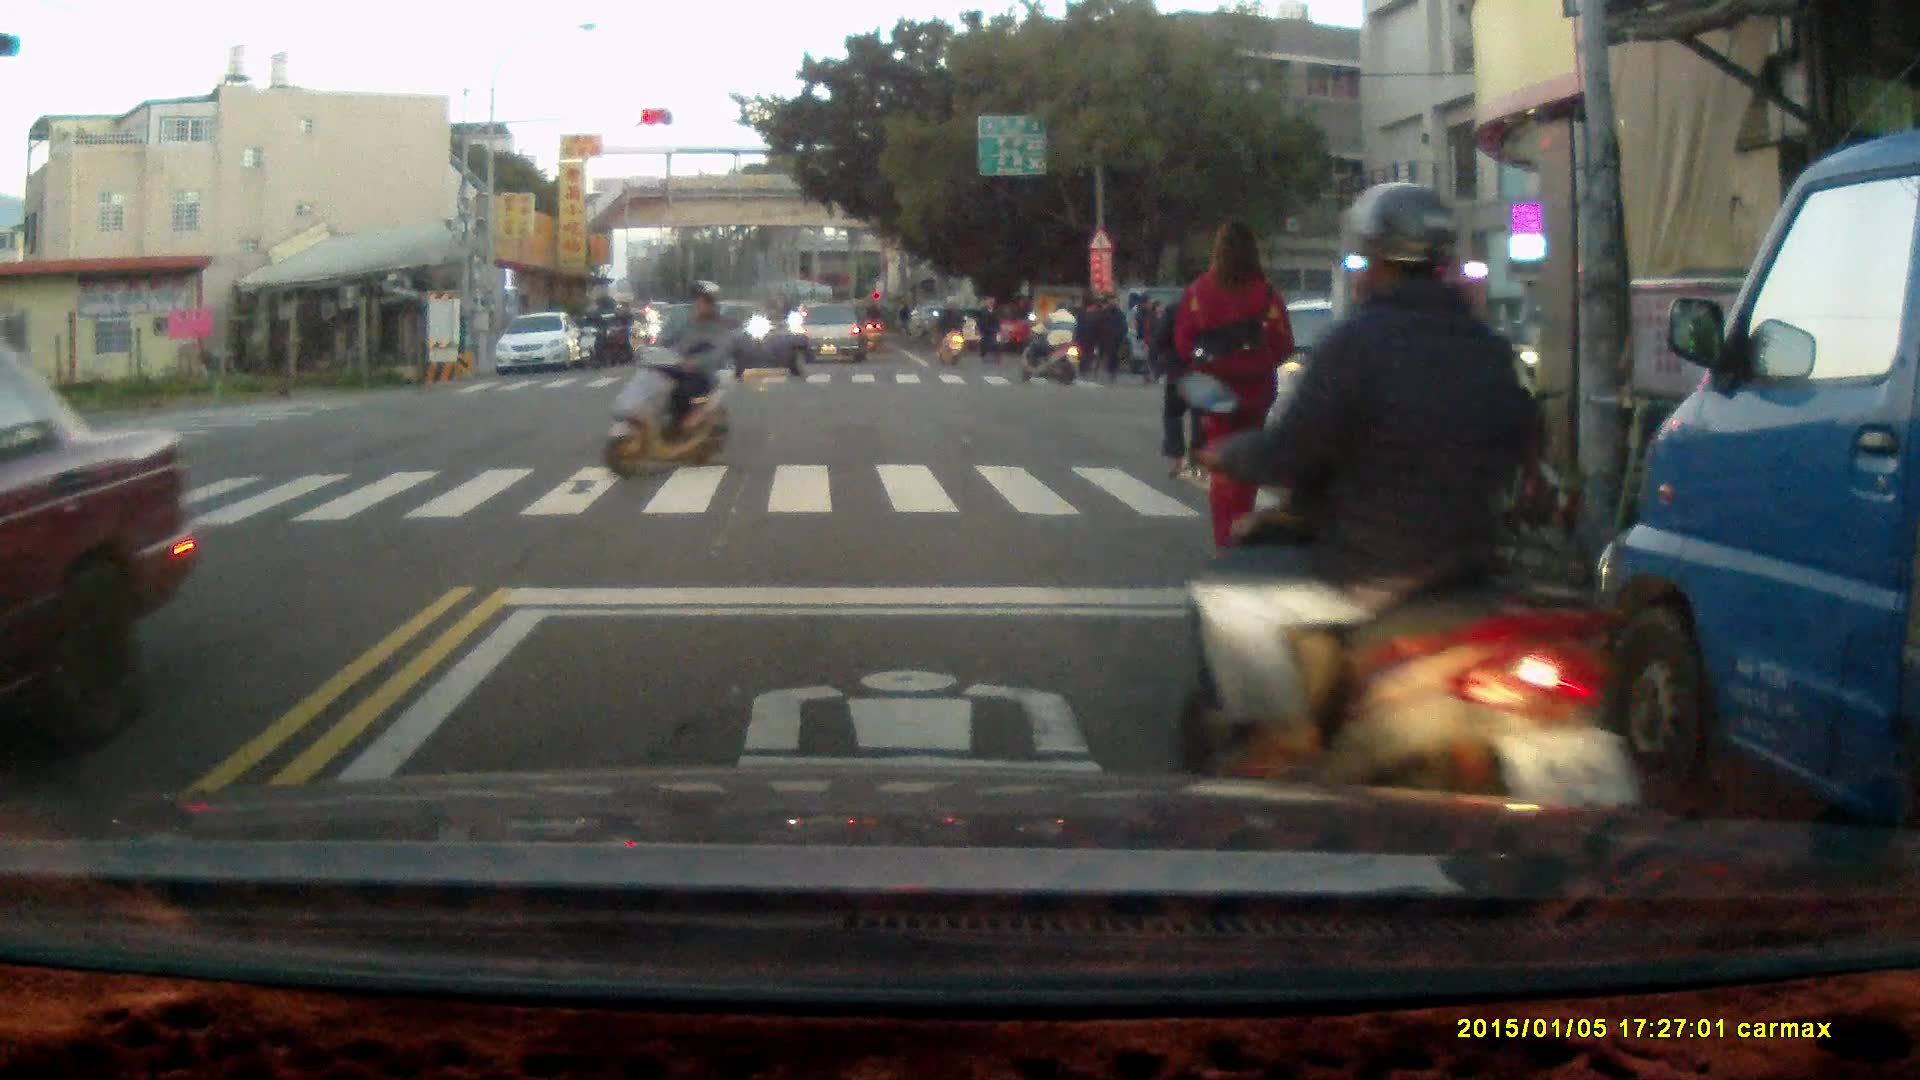pedestrian: (1175, 216, 1295, 573), (1150, 262, 1234, 482), (1094, 290, 1127, 385), (977, 292, 1001, 367)
rider: (1180, 176, 1625, 874), (602, 280, 738, 483), (1020, 296, 1081, 387), (929, 294, 968, 370), (575, 302, 607, 370), (602, 301, 632, 363)
vehicle: (1598, 132, 1920, 881), (1, 353, 193, 756), (1233, 296, 1533, 459), (649, 303, 812, 386), (498, 313, 586, 377), (794, 302, 873, 366)
